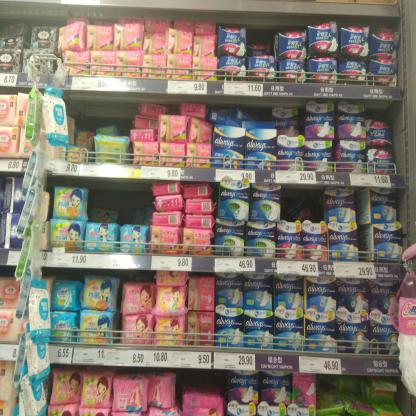Void: (72, 94, 129, 138), (91, 181, 148, 222), (321, 376, 369, 404), (283, 190, 322, 221), (182, 371, 224, 396), (248, 28, 277, 55)
